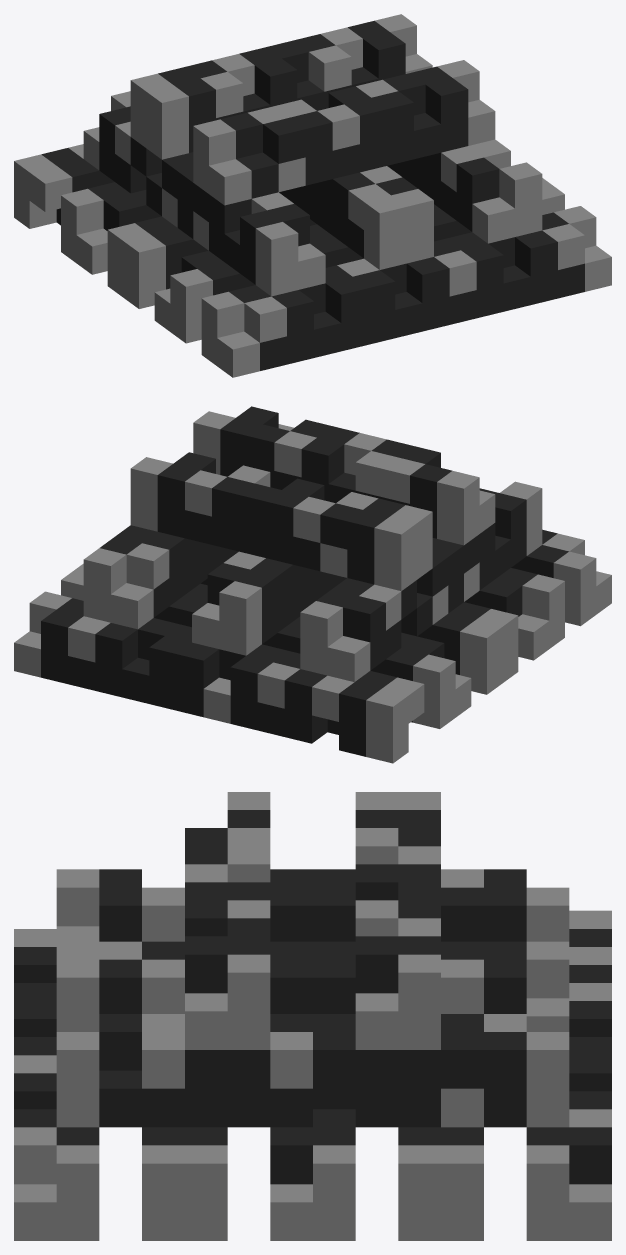
The model's file is woodafter.obj.
The picture shows the model from 3 angles, top to bottom: view 1: azimuth 30°, elevation 25°; view 2: azimuth 150°, elevation 25°; view 3: azimuth 270°, elevation 25°; orthographic projection. The views are drawn at different scales.
Size of the model in its own units: 1.4 by 0.6 by 1.4.
1 material, 1 textured.
